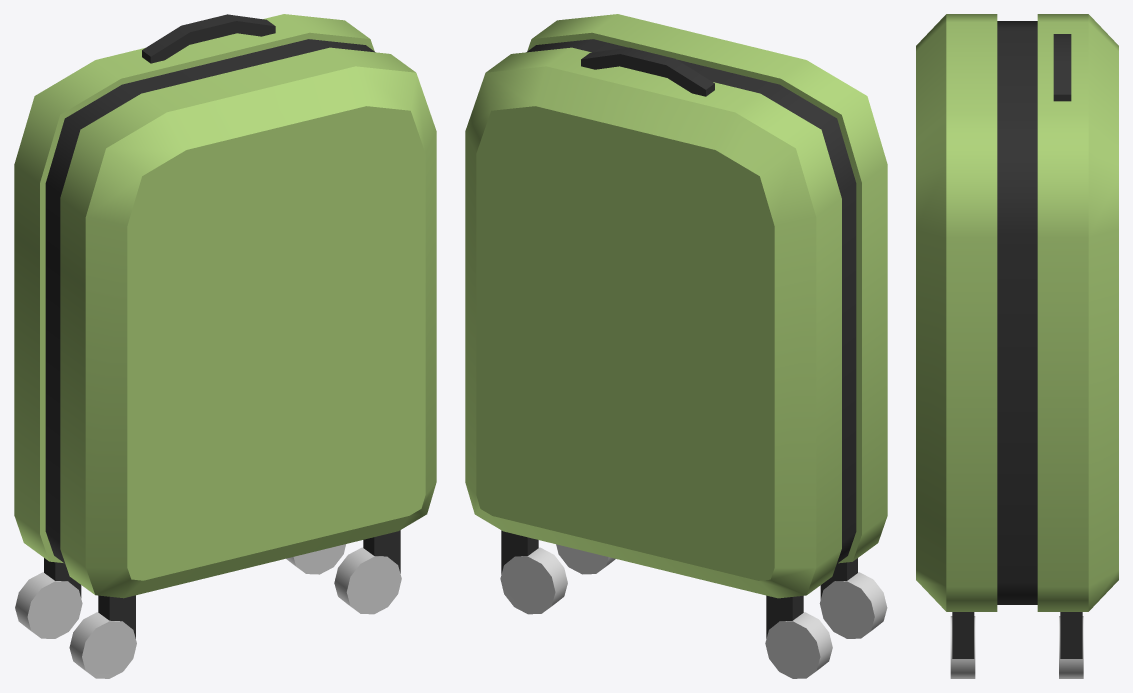
The model's file is Petite_Valise_Verte.fbx.
3 views of the same model, side by side, from view 1: azimuth 30°, elevation 25°; view 2: azimuth 150°, elevation 25°; view 3: azimuth 270°, elevation 25° (orthographic).
Visible parts, largest first — view 1: Petite_Valise_Verte; view 2: Petite_Valise_Verte; view 3: Petite_Valise_Verte.
Boxes of the visible parts, <box> form: Petite_Valise_Verte: <box>14,14,436,678</box>; Petite_Valise_Verte: <box>465,14,887,678</box>; Petite_Valise_Verte: <box>916,14,1118,678</box>.
Size of the model in its own units: 45.95 by 71.8 by 23.01.
Materials: 1 (1 with a texture image).
